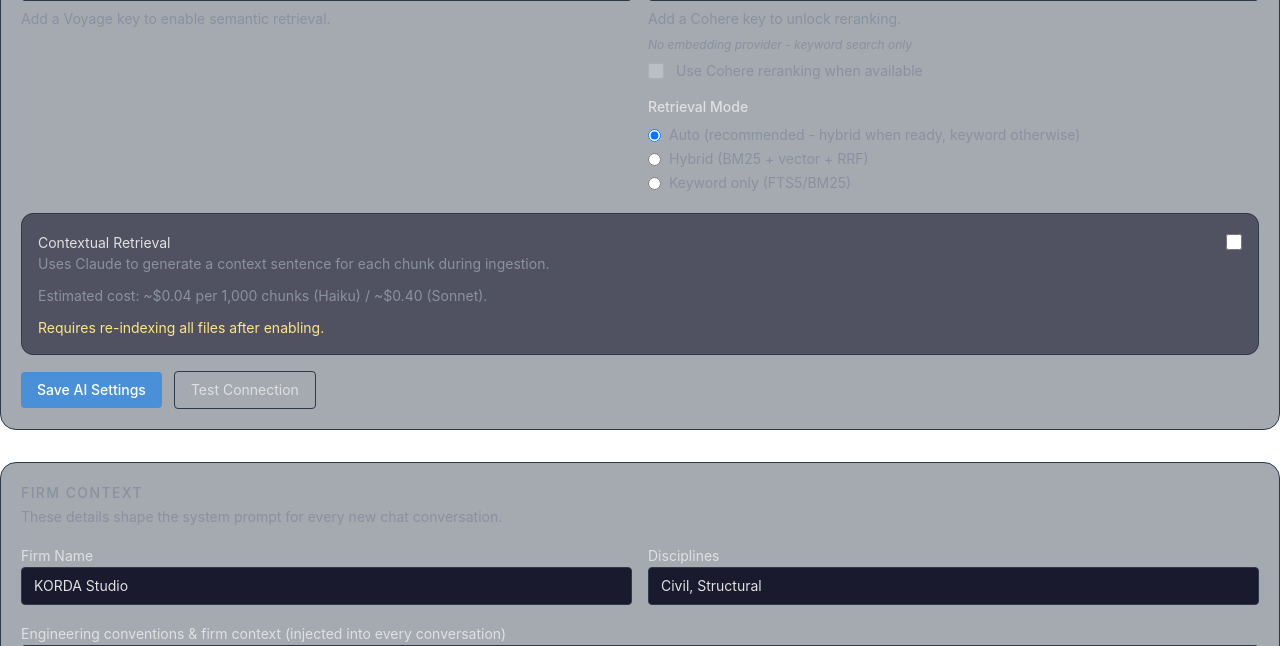
Test: AI settings page › shows the returned connection error when the test fails
The image size is (1280, 646).
(page scrolled)
Click the button "Test Connection".
click(245, 390)  # box x1=174 y1=371 x2=316 y2=409
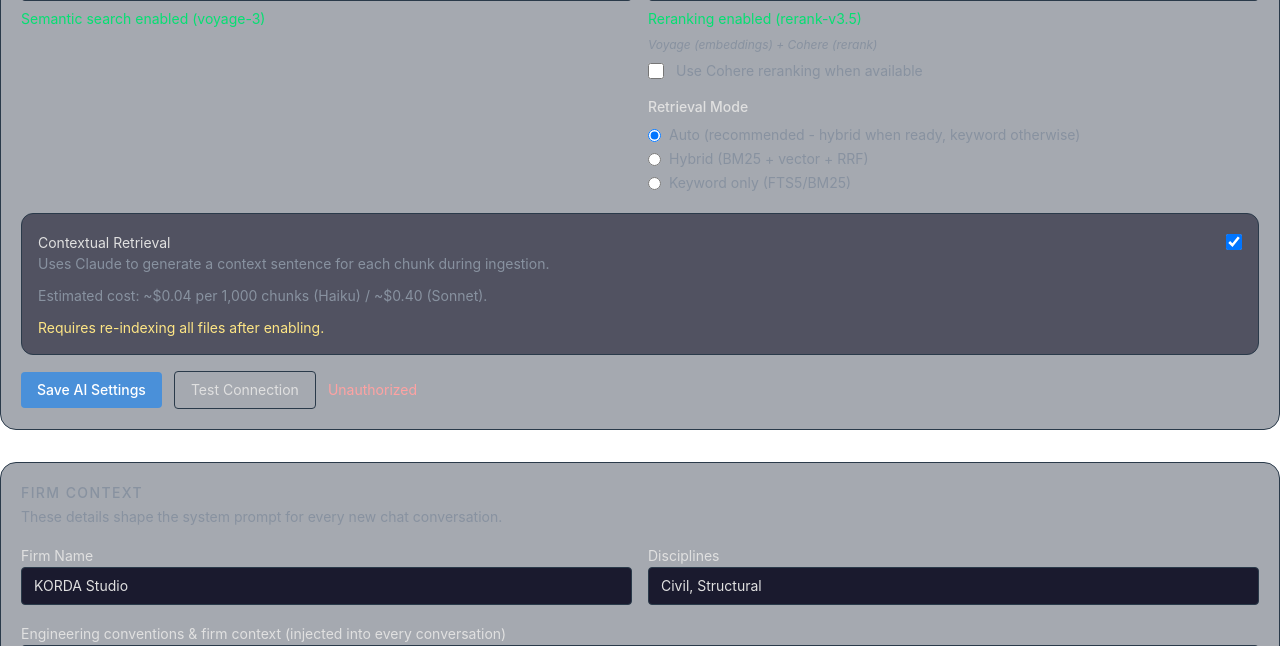
Result: the text "Unauthorized" is shown at x1=328 y1=380 x2=417 y2=400
